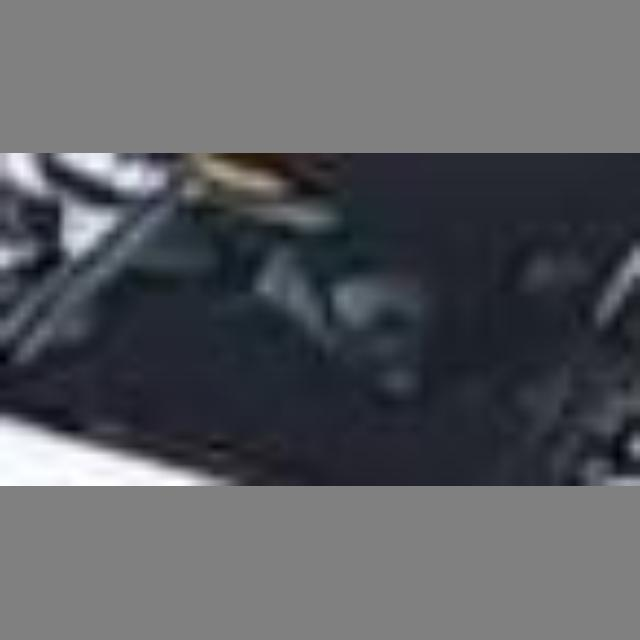pakai: (228, 197, 456, 407)
